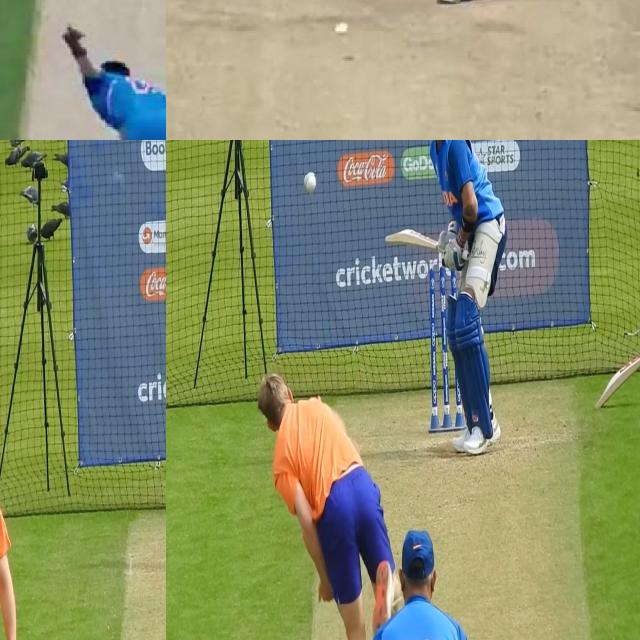Cricket ball: (303, 168, 319, 198), (334, 20, 351, 38)
Stumps: (427, 265, 460, 432)
